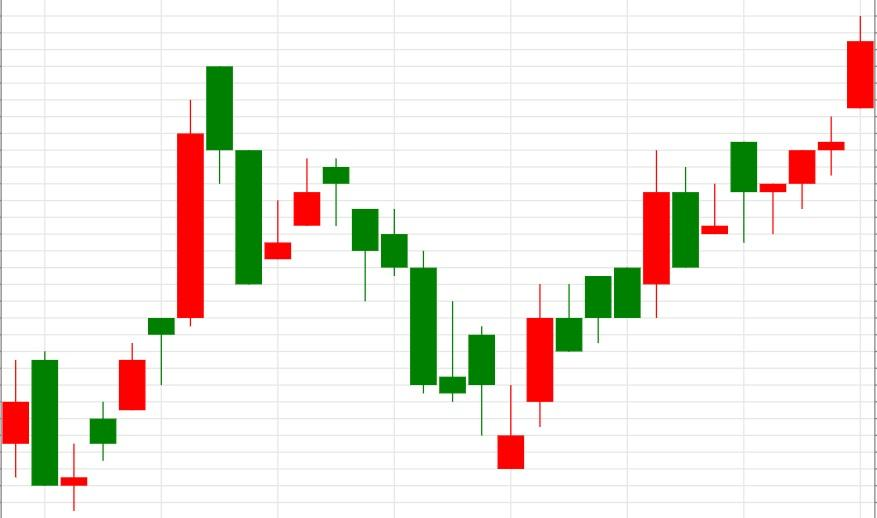hanging_man_fall: (235, 150, 350, 286)
